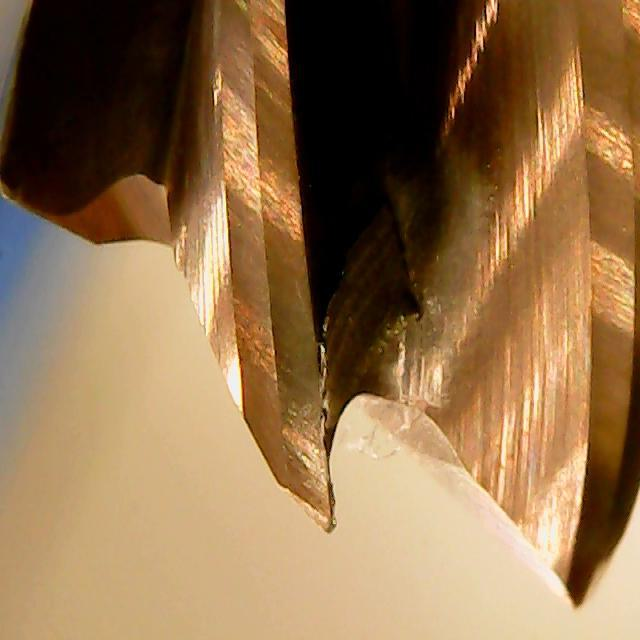Tool-wear-class-1: (227, 291, 347, 537)
